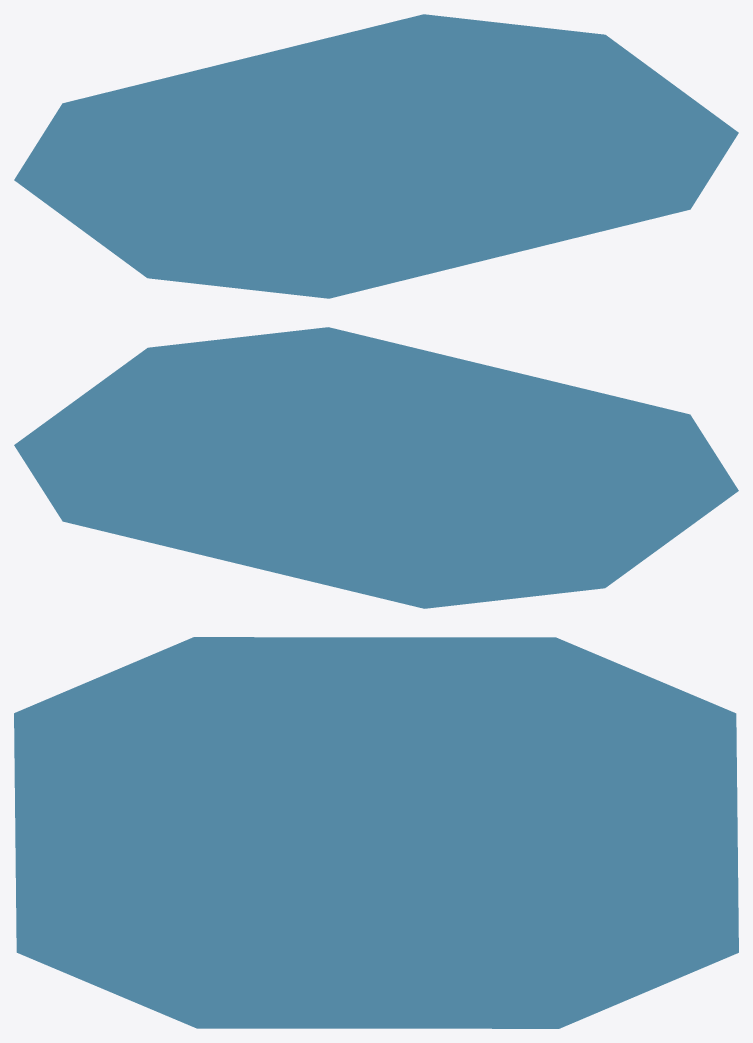
File: SM_Poolwater_01.fbx
The picture shows the model from 3 angles, top to bottom: view 1: azimuth 30°, elevation 25°; view 2: azimuth 150°, elevation 25°; view 3: azimuth 270°, elevation 25°; orthographic projection. The views are drawn at different scales.
Parts seen in each view (by area): view 1: SM_Poolwater_01; view 2: SM_Poolwater_01; view 3: SM_Poolwater_01.
Part boxes in pixels (x1=…): SM_Poolwater_01: x1=14, y1=14, x2=738, y2=298; SM_Poolwater_01: x1=14, y1=327, x2=738, y2=608; SM_Poolwater_01: x1=14, y1=637, x2=738, y2=1028.
Bounding box in the file's own units: 611 × 0 × 478.
